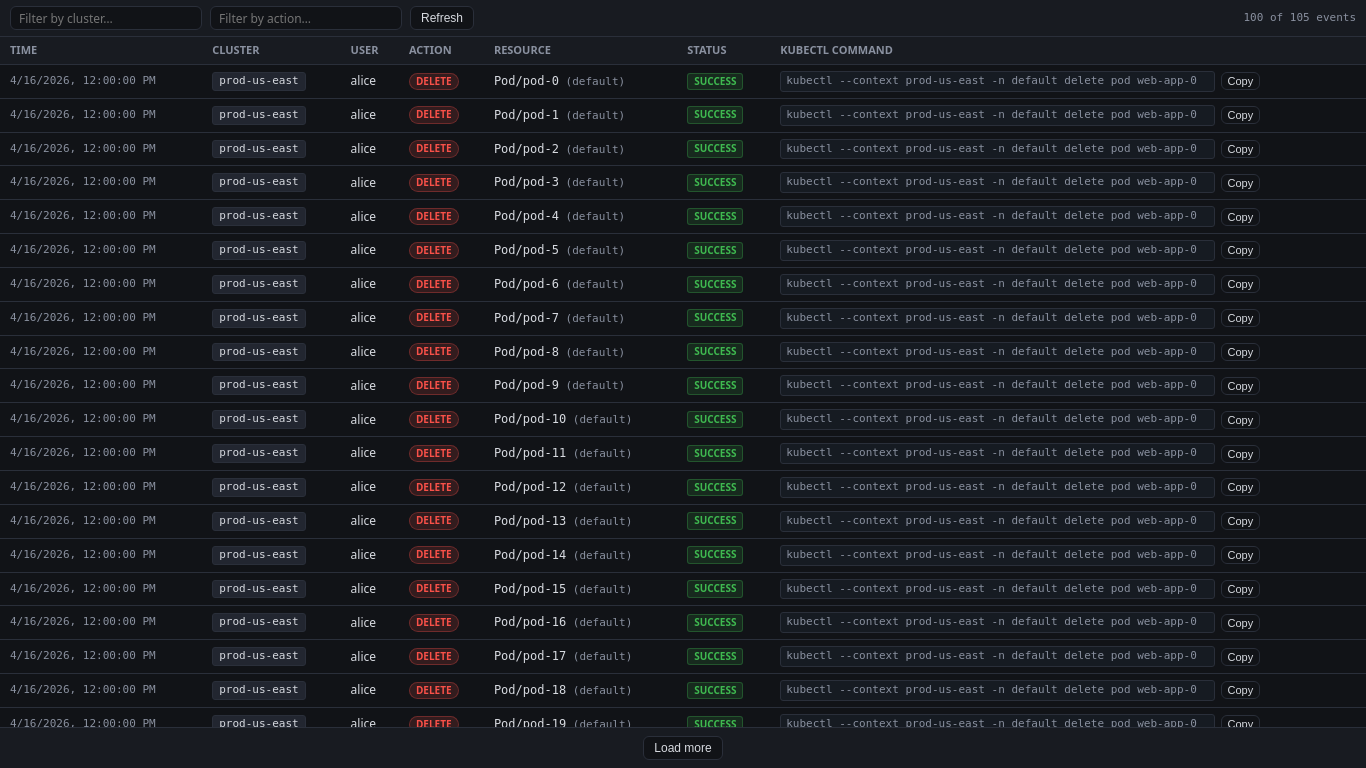
it: <AuditLogViewer /> › requests the next page when 'Load more' is clicked
The image size is (1366, 768).
Expected: the text "Pod/pod-0" is shown, [494,74,559,88]
Expected: the text "100 of 105 events" is shown, [1243,11,1356,24]
Click the button "Load more". click: [683, 748]
box: [643,736,723,760]
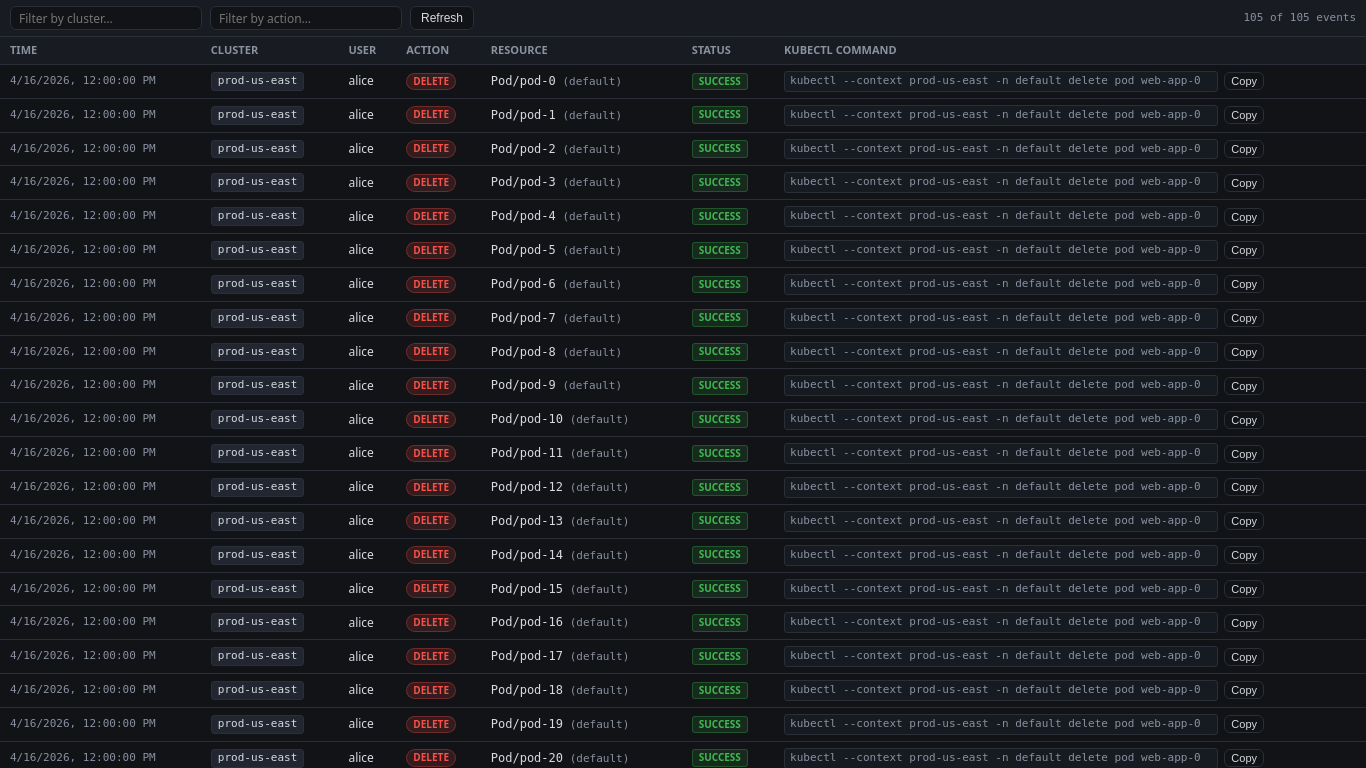
Expected: the text "105 of 105 events" is shown, [1243,11,1356,24]
Expected: the button "Load more" is gone
